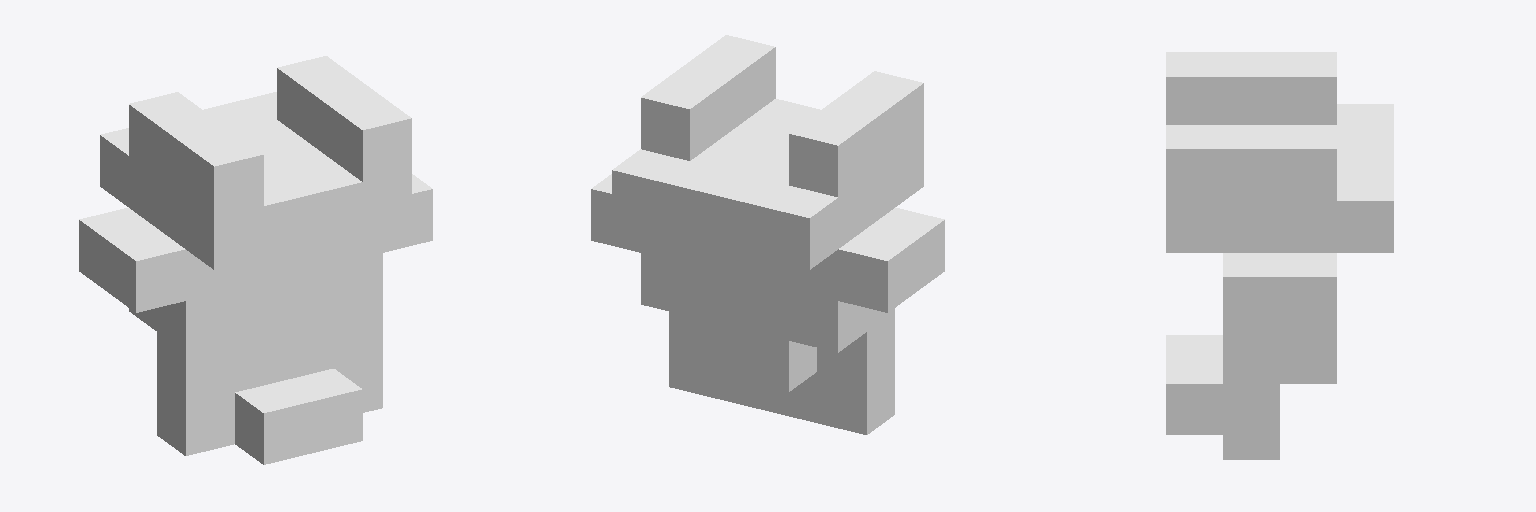
File: scummBarPirate01_head.obj
3 views of the same model, side by side, from view 1: azimuth 30°, elevation 25°; view 2: azimuth 150°, elevation 25°; view 3: azimuth 270°, elevation 25° (orthographic).
Bounding box in the file's own units: 6 × 6 × 4.